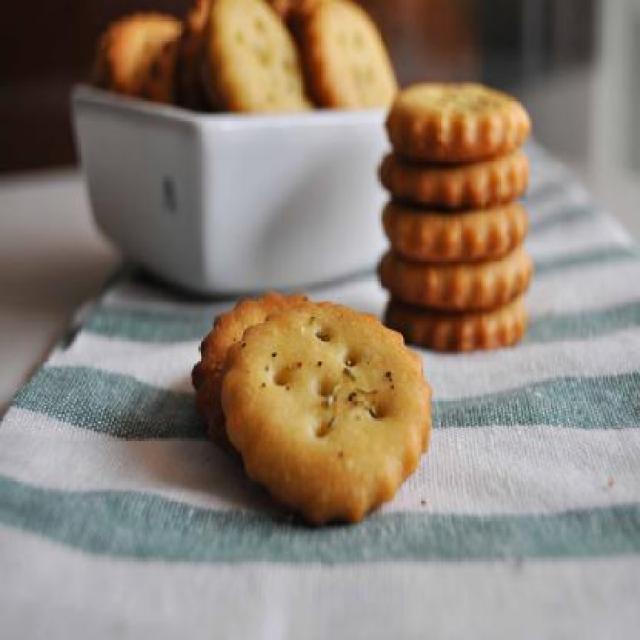Ritz cracker packaged: (203, 282, 431, 530), (382, 75, 536, 358)
